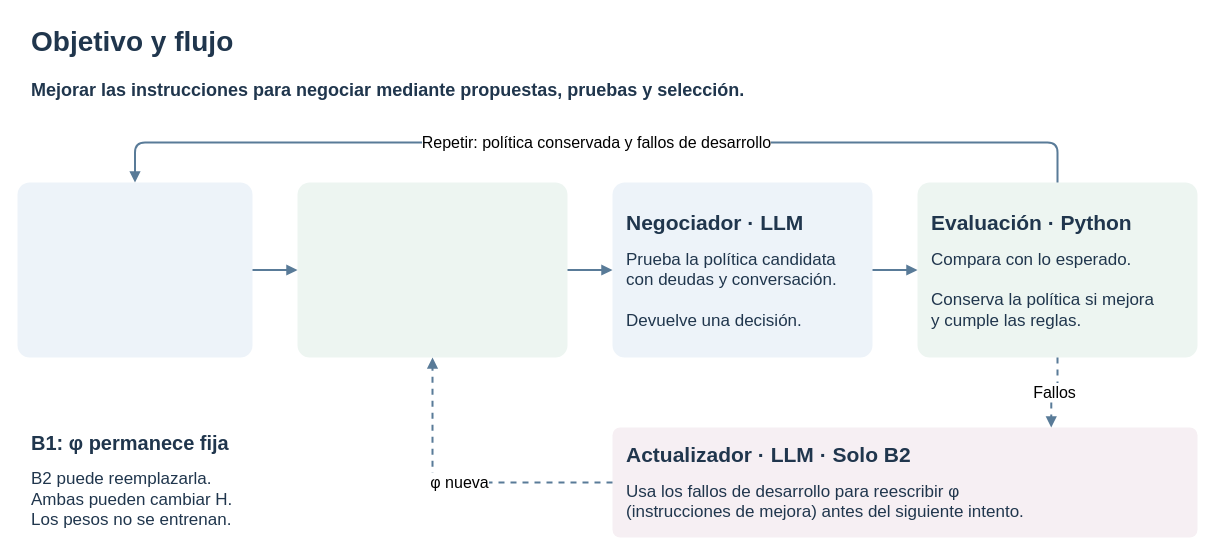
This 1214x559 diagram has some shape labels left out. Here are the shapes that lost their labels. From the top down, the centre of each, then its label:
At (x=134, y=269): "H (política) Instrucciones vigentes para negociar. Inicio: versión H0.".
At (x=432, y=269): "Mejorador · LLM Propone otra política H. Sigue φ (instrucciones de mejora).".
